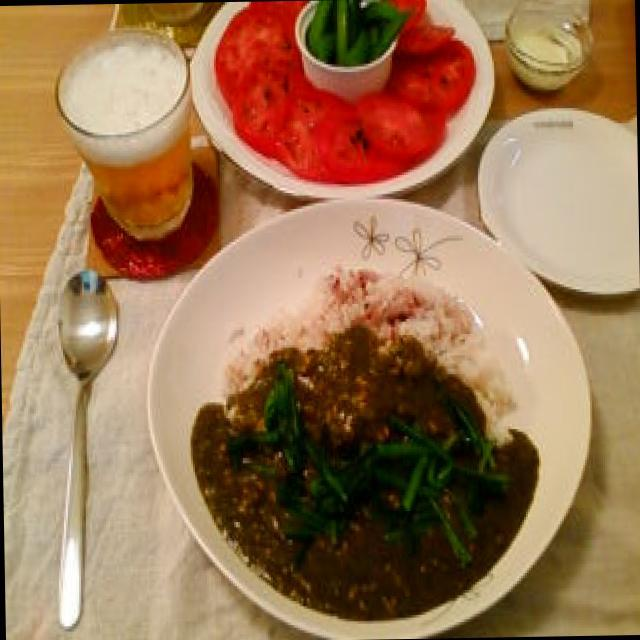Beef Curry: (449, 76, 602, 250)
